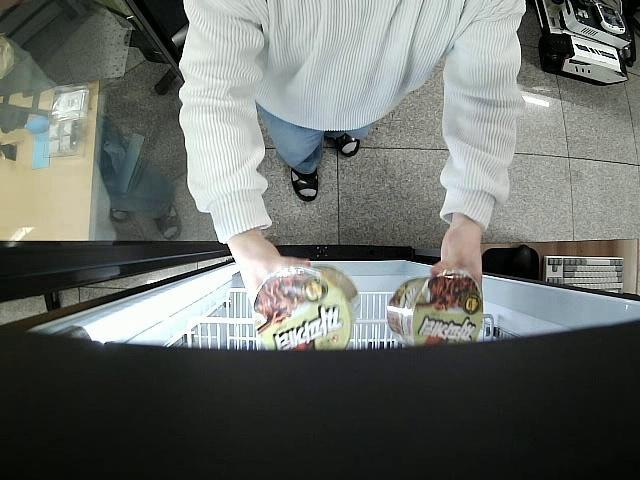03_chapagetti_L: (252, 266, 361, 351), (388, 270, 482, 344)
